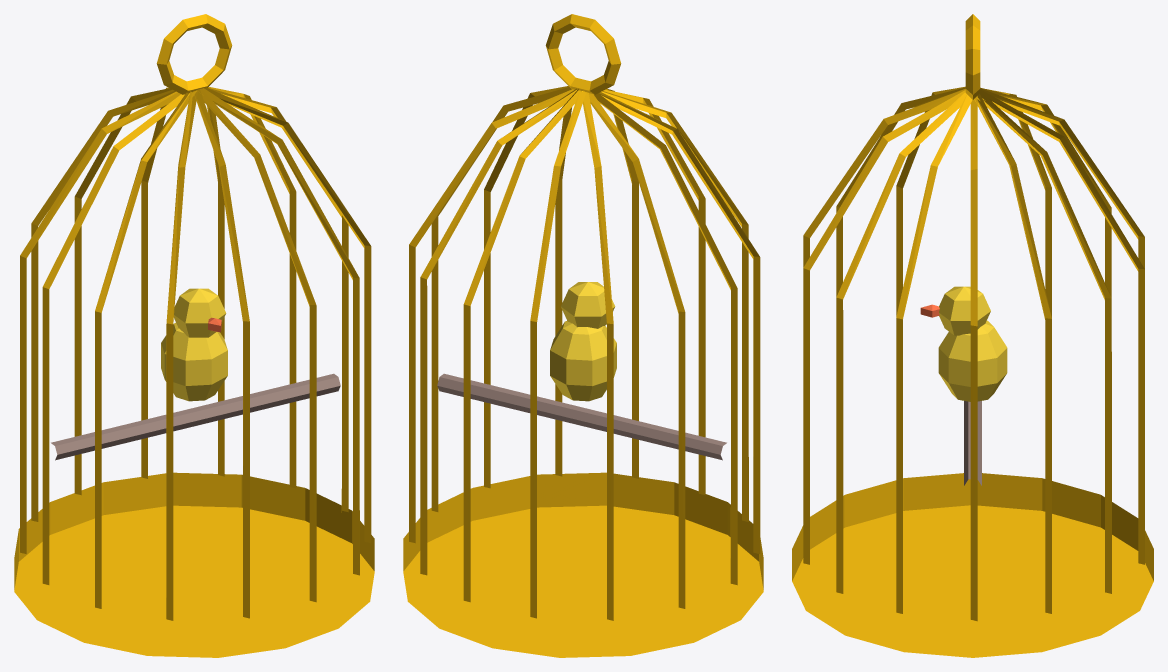
File: fagelbur.glb
3 views of the same model, side by side, from view 1: azimuth 30°, elevation 25°; view 2: azimuth 150°, elevation 25°; view 3: azimuth 270°, elevation 25° (orthographic).
Visible parts, largest first — view 1: fagelbur; view 2: fagelbur; view 3: fagelbur.
Boxes of the visible parts, x1,y1,x2,y2 form: fagelbur: [14, 14, 374, 657]; fagelbur: [403, 14, 763, 657]; fagelbur: [792, 14, 1153, 657].
Bounding box in the file's own units: 0.4 × 0.6857 × 0.4.
